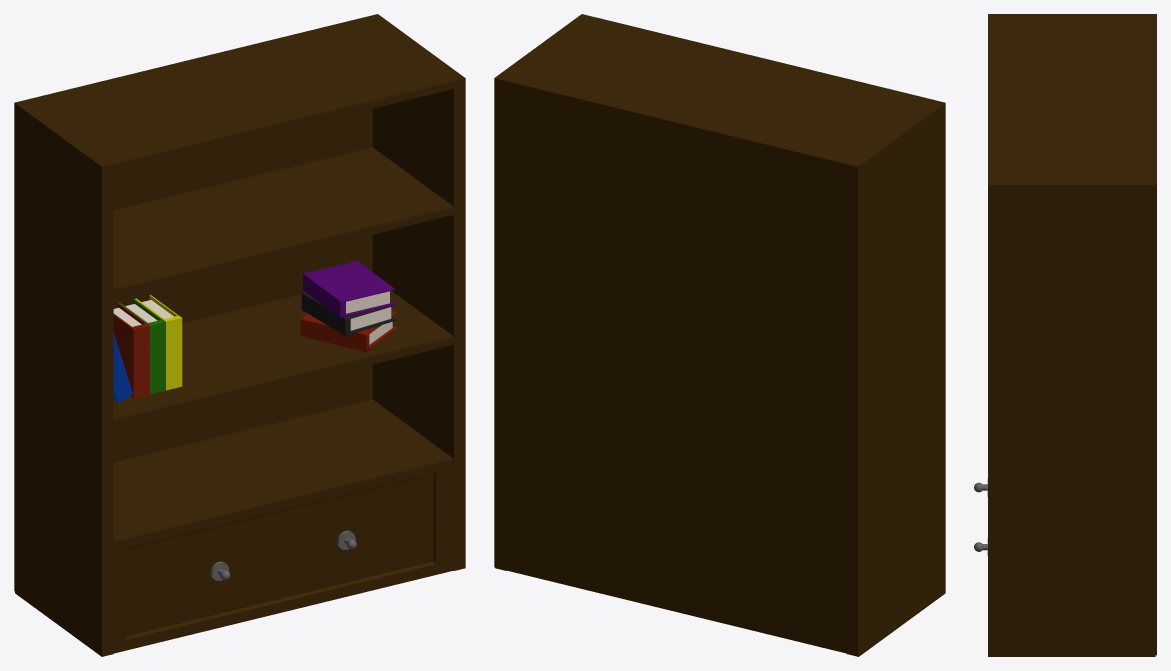
The model's file is sm_Bookshelf.fbx.
3 renders of one model, left to right at view 1: azimuth 30°, elevation 25°; view 2: azimuth 150°, elevation 25°; view 3: azimuth 270°, elevation 25°, orthographic. The views are drawn at different scales.
Parts seen in each view (by area): view 1: pCube15; view 2: pCube15; view 3: pCube15.
Part boxes in pixels (box(x1,y1,x2,y2)): pCube15: box(14, 14, 465, 656); pCube15: box(494, 14, 945, 656); pCube15: box(974, 14, 1156, 656).
Size of the model in its own units: 574 by 740 by 260.
